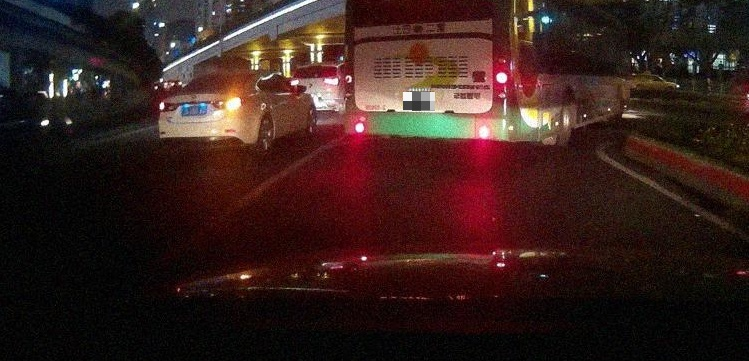L_light: (158, 101, 180, 112), (324, 77, 340, 86), (291, 79, 300, 86)
R_light: (213, 98, 245, 110)
T_light: (208, 76, 222, 79), (312, 66, 322, 68)
night-no: (158, 71, 256, 155), (290, 64, 343, 116)
plate_1: (403, 92, 435, 111)
